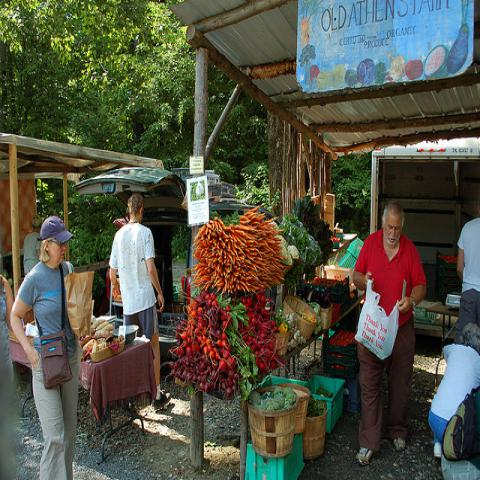truck: (370, 136, 479, 354)
